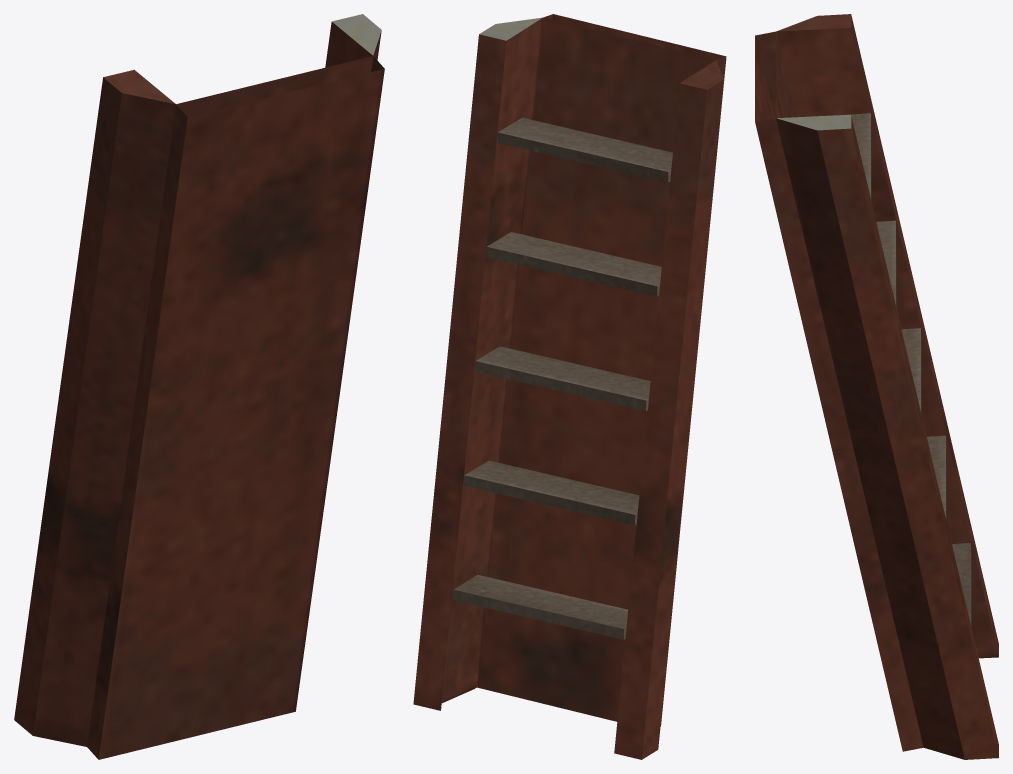
File: upstairs.fbx
3 views of the same model, side by side, from view 1: azimuth 30°, elevation 25°; view 2: azimuth 150°, elevation 25°; view 3: azimuth 270°, elevation 25° (orthographic). The views are drawn at different scales.
Parts seen in each view (by area): view 1: Cube.013; view 2: Cube.013; view 3: Cube.013.
Part boxes in pixels (x1=…): Cube.013: x1=14, y1=14, x2=384, y2=759; Cube.013: x1=413, y1=14, x2=726, y2=759; Cube.013: x1=755, y1=14, x2=998, y2=759.
Bounding box in the file's own units: 1.02 × 0.8975 × 2.6.
2 materials, 2 textured.
